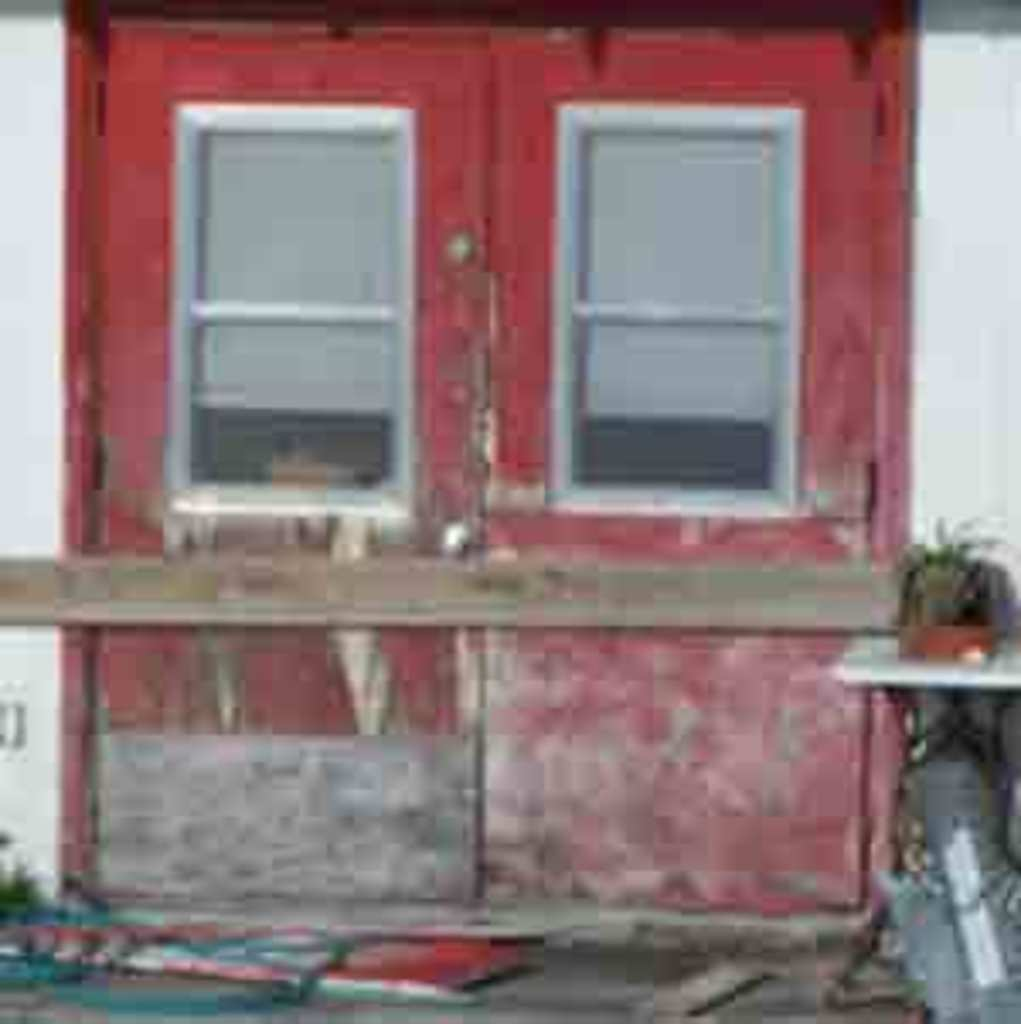door: (113, 30, 487, 886), (498, 67, 863, 902)
